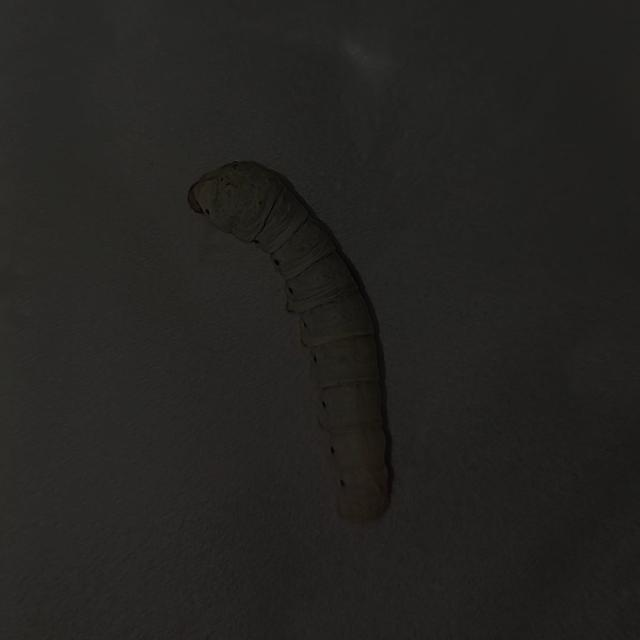Healthy: (166, 147, 458, 551)
